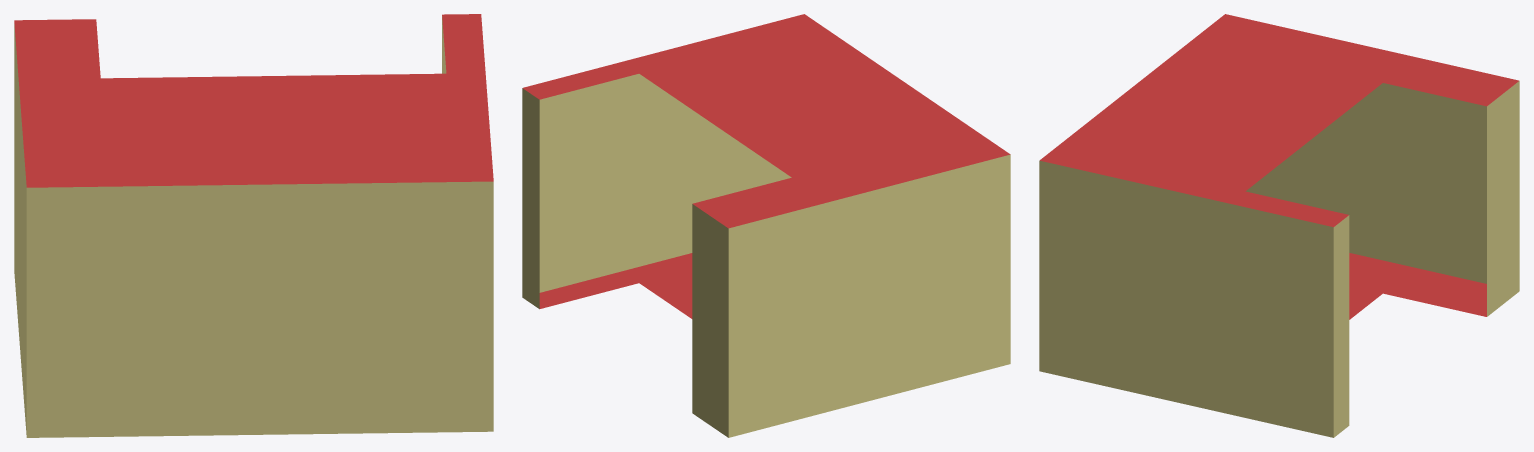
3 views of the same model, side by side, from view 1: azimuth 30°, elevation 25°; view 2: azimuth 150°, elevation 25°; view 3: azimuth 270°, elevation 25° (orthographic). The views are drawn at different scales.
Bounding box in the file's own units: 7.65 × 7.28 × 3.52.
